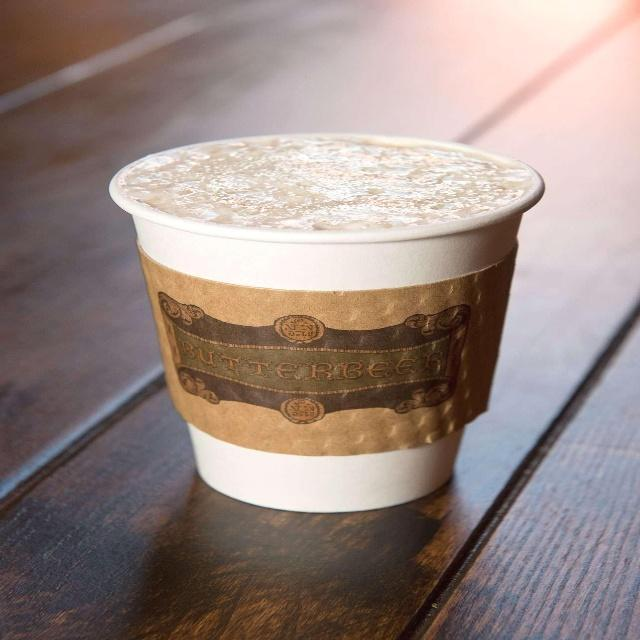paper_cup: (103, 121, 548, 522)
